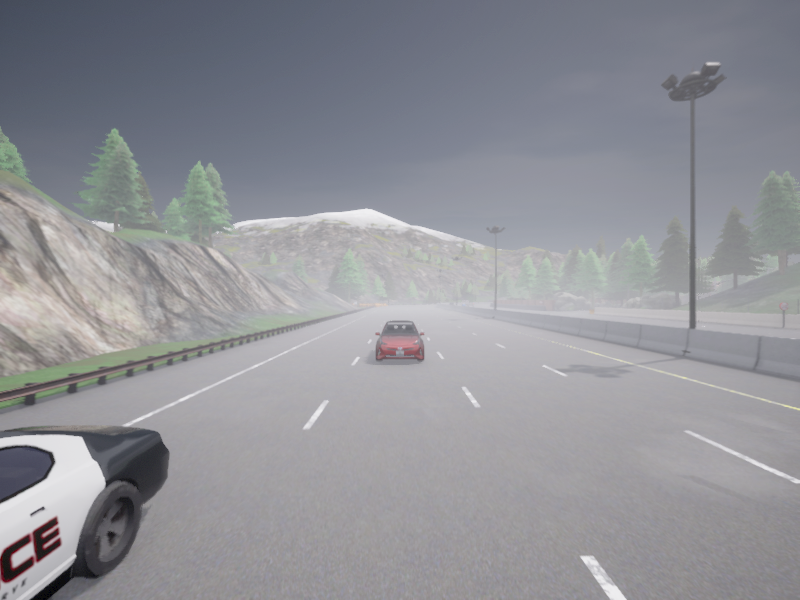vehicle: (0, 425, 169, 599), (375, 320, 424, 361), (463, 300, 468, 305), (468, 302, 473, 305), (449, 302, 453, 304), (461, 303, 464, 305)
